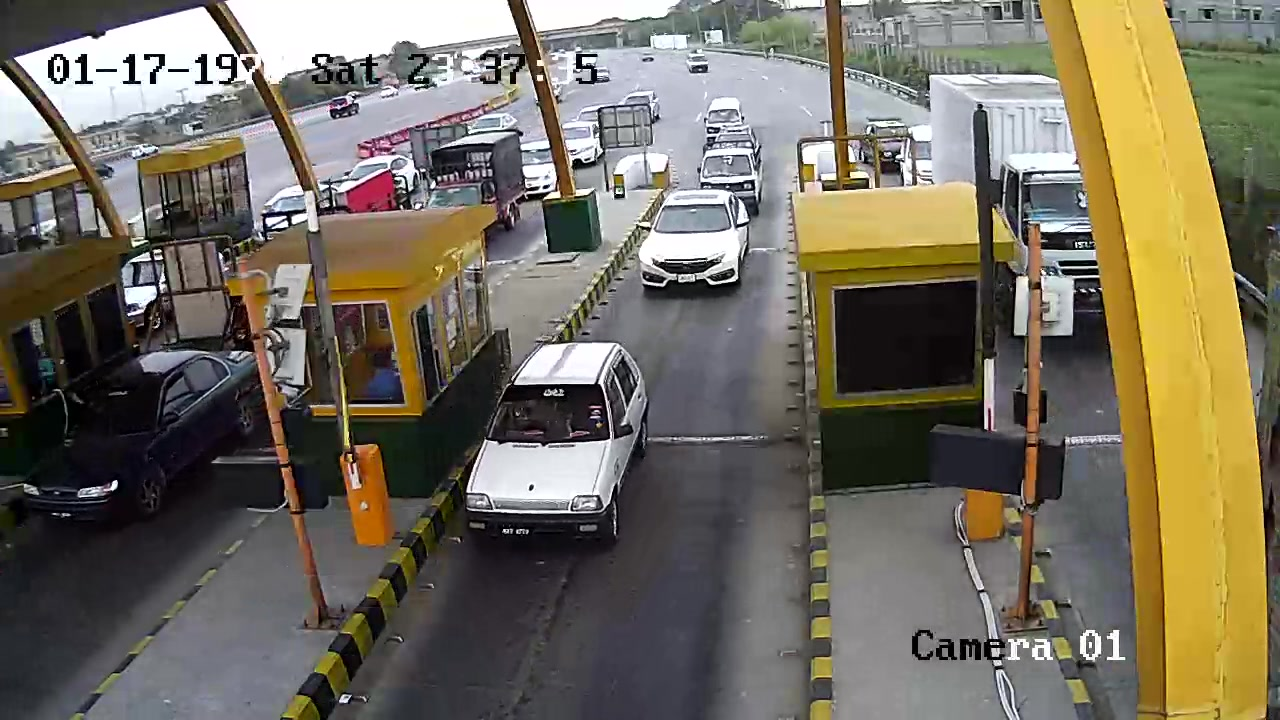F1: (454, 335, 671, 561)
